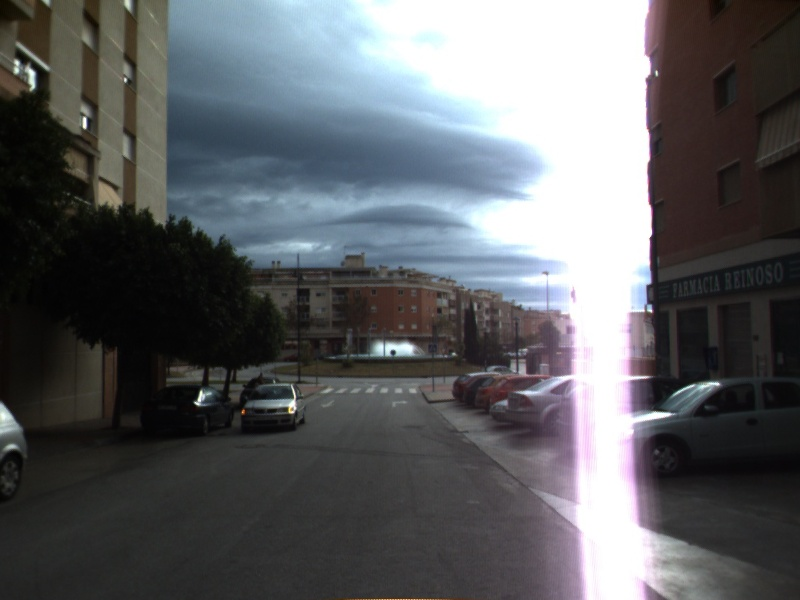RIGHT: (390, 398, 410, 409)
